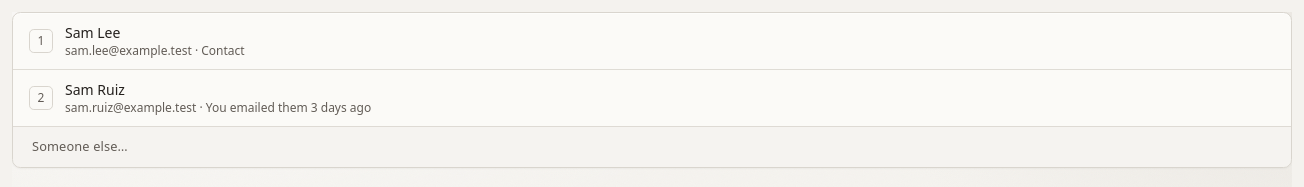
Test: ChoiceCard › picks an option on click and then shows it answered
This screenshot has width=1304, height=187.
Later steps or results of the test are not shown.
Click the button "Sam Ruiz" at (95, 90), box top-left (13, 70), bottom-right (1291, 126)
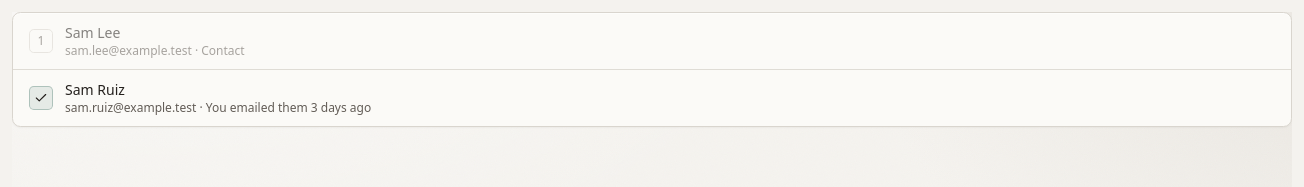
Expected: the button "1 Sam Lee sam.lee@example.test · Contact" is disabled, top-left (13, 13), bottom-right (1291, 69)
Expected: the button "Someone else" is gone
